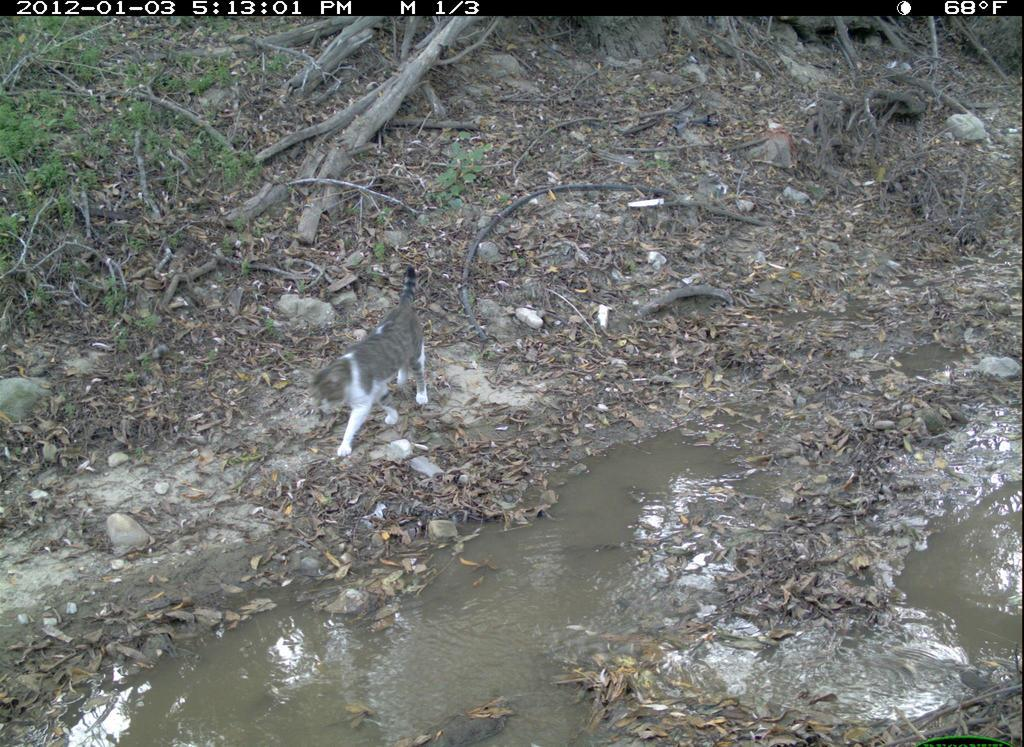cat: (313, 263, 461, 455)
